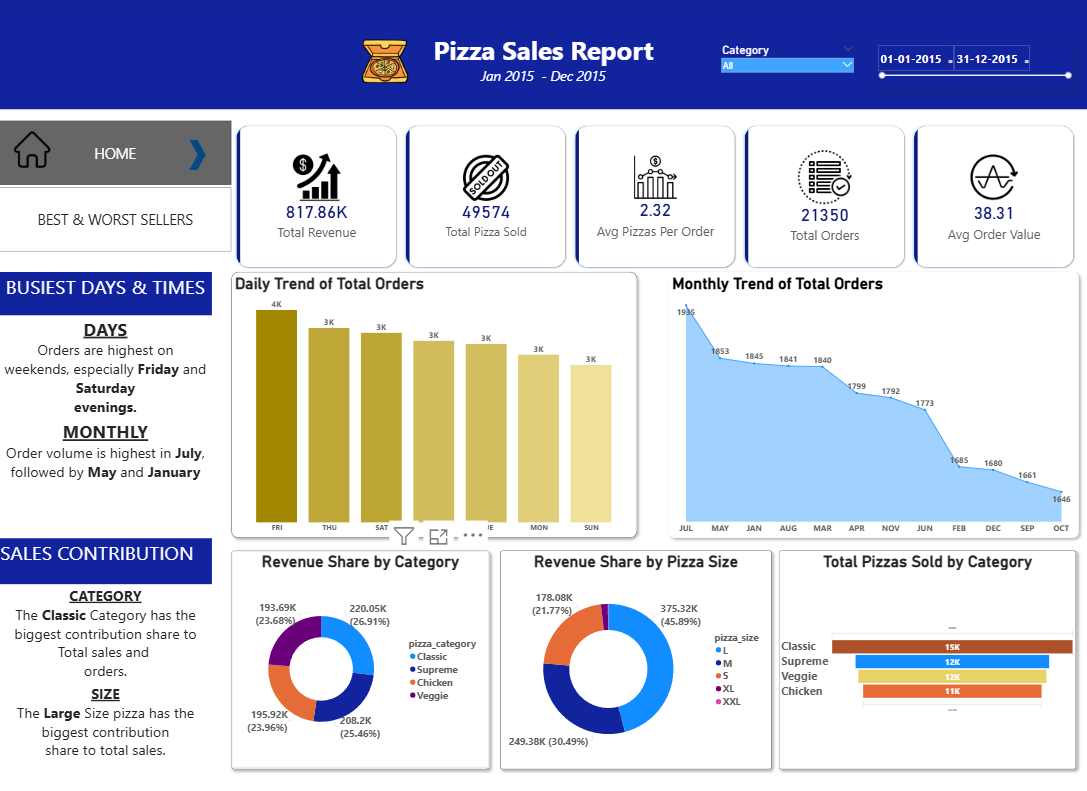

The page's visual inventory and layout, read from the dashboard file:
{"tool":"powerbi","page":{"name":"HOME","canvas":[4500,3300],"ordinal":0},"visuals":[{"type":"textbox","box":[0,0,4499.9,463.7],"z":0},{"type":"cardVisual","fields":{"Data":["Sum(pizza_sales.total_price)","Sum(pizza_sales.quantity)","pizza_sales.Avg Pizzas Per Order","pizza_sales.Total Orders","pizza_sales.Avg Order Value"]},"box":[958.4,510,3502.9,627.7],"z":1000},{"type":"clusteredColumnChart","title":"Daily Trend of Total Orders","fields":{"Category":["pizza_sales.Day"],"Y":["pizza_sales.Total Orders"]},"box":[958.4,1137.7,1675.8,1098.5],"z":2000},{"type":"areaChart","title":"Monthly Trend of Total Orders","fields":{"Category":["pizza_sales.Month"],"Y":["pizza_sales.Total Orders"]},"box":[2768.7,1137.7,1692.6,1098.5],"z":3000},{"type":"donutChart","title":"Revenue Share by Category","fields":{"Category":["pizza_sales.pizza_category"],"Y":["Sum(pizza_sales.total_price)"]},"box":[958.4,2286.7,1064.9,902.3],"z":4000},{"type":"donutChart","title":"Revenue Share by Pizza Size","fields":{"Y":["Sum(pizza_sales.total_price)"],"Category":["pizza_sales.pizza_size"]},"box":[2073.7,2286.7,1120.9,902.3],"z":5000},{"type":"funnel","title":"Total Pizzas Sold by Category","fields":{"Category":["pizza_sales.pizza_category"],"Y":["Sum(pizza_sales.quantity)"]},"box":[3222.7,2286.7,1227.4,902.3],"z":6000},{"type":"textbox","box":[0,1137.7,879.9,179.3],"z":7000},{"type":"textbox","box":[0,1317.1,879.9,902.3],"z":8000},{"type":"textbox","box":[0,2236.3,879.9,190.6],"z":9000},{"type":"textbox","box":[0,2426.8,879.9,1020],"z":10000},{"type":"slicer","fields":{"Values":["pizza_sales.pizza_category"]},"box":[2976.1,185,566.1,162.5],"z":11000},{"type":"slicer","fields":{"Values":["pizza_sales.order_date"]},"box":[3615,185,829.5,200],"z":12000},{"type":"image","box":[1402.9,166.4,380.4,202.1],"z":13000},{"type":"pageNavigator","box":[0,510,960,540],"z":14000},{"type":"shape","box":[786.7,586.7,70,126.7],"z":15000},{"type":"image","box":[56.7,546.7,160,166.7],"z":16000}]}

Visuals, with their boxes in screenshot pixels (x1, y1, x2, y2), scaled from the page's 4500x3300 canvas onto the 1087x791 screenshot:
textbox: [x1=0, y1=0, x2=1086, y2=111]
cardVisual - Sum(pizza_sales.total_price) x Sum(pizza_sales.quantity): [x1=232, y1=122, x2=1078, y2=273]
"Daily Trend of Total Orders" clusteredColumnChart: [x1=232, y1=273, x2=636, y2=536]
"Monthly Trend of Total Orders" areaChart: [x1=669, y1=273, x2=1078, y2=536]
"Revenue Share by Category" donutChart: [x1=232, y1=548, x2=489, y2=764]
"Revenue Share by Pizza Size" donutChart: [x1=501, y1=548, x2=772, y2=764]
"Total Pizzas Sold by Category" funnel: [x1=778, y1=548, x2=1075, y2=764]
textbox: [x1=0, y1=273, x2=213, y2=316]
textbox: [x1=0, y1=316, x2=213, y2=532]
textbox: [x1=0, y1=536, x2=213, y2=582]
textbox: [x1=0, y1=582, x2=213, y2=790]
slicer - pizza_sales.pizza_category: [x1=719, y1=44, x2=856, y2=83]
slicer - pizza_sales.order_date: [x1=873, y1=44, x2=1074, y2=92]
image: [x1=339, y1=40, x2=431, y2=88]
pageNavigator: [x1=0, y1=122, x2=232, y2=252]
shape: [x1=190, y1=141, x2=207, y2=171]
image: [x1=14, y1=131, x2=52, y2=171]
